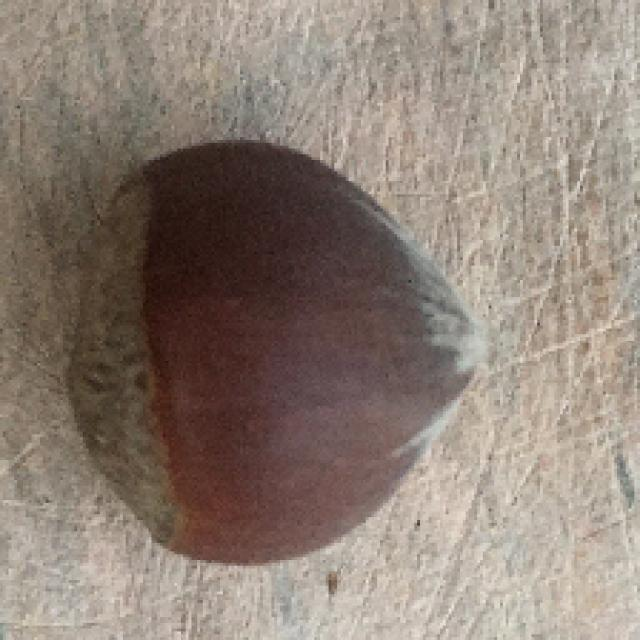damagedHazelnut: (65, 136, 486, 572)
